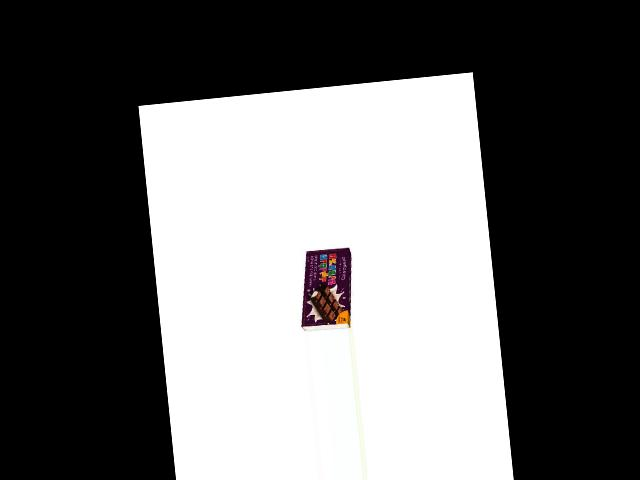chocolate: (297, 241, 358, 333)
